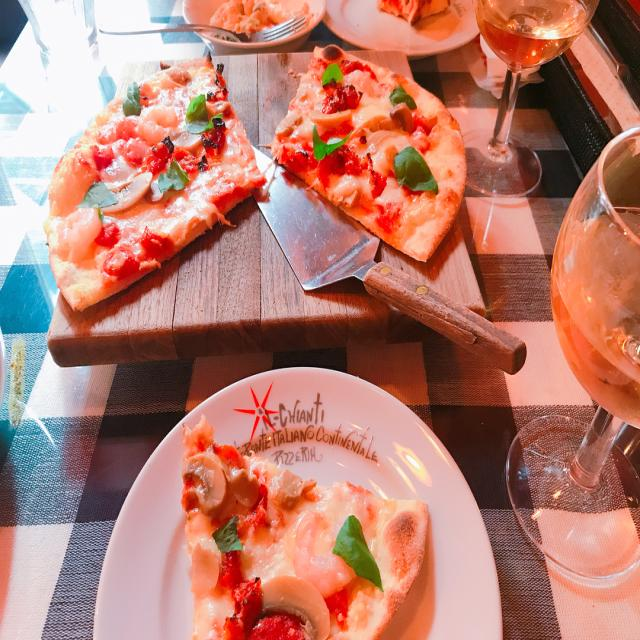basil: (333, 516, 385, 592), (393, 147, 440, 196), (149, 162, 193, 200), (82, 183, 120, 210), (185, 94, 212, 131), (311, 134, 347, 161), (215, 520, 242, 554), (122, 84, 141, 116), (390, 90, 416, 110), (326, 66, 342, 80)
pizza: (46, 59, 267, 315), (181, 417, 434, 640), (270, 45, 467, 263)
